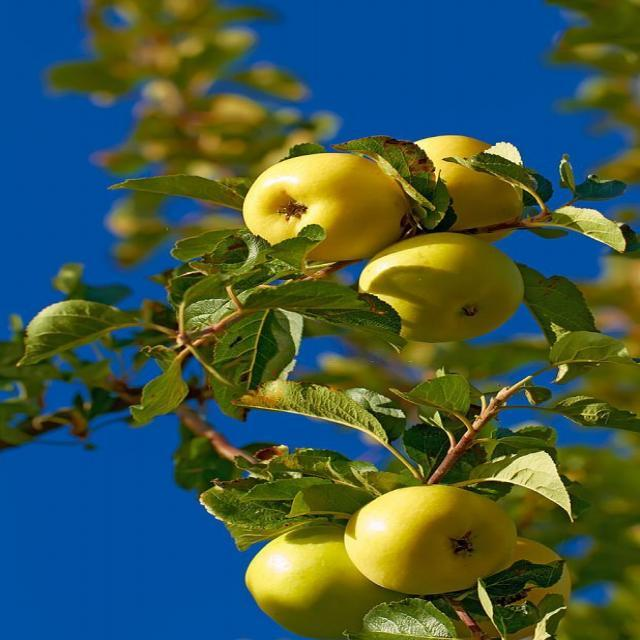Green Apple: (245, 525, 414, 640), (363, 232, 534, 339), (345, 491, 507, 599), (245, 153, 403, 256), (390, 136, 533, 238), (452, 534, 571, 623)
